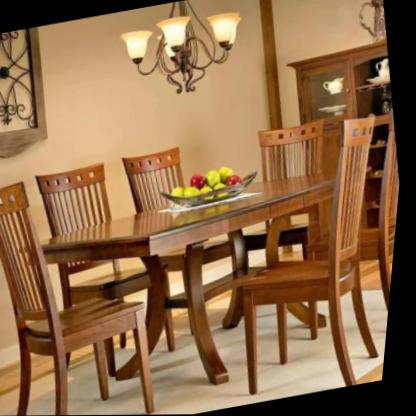Dining Table: (0, 97, 409, 416)
